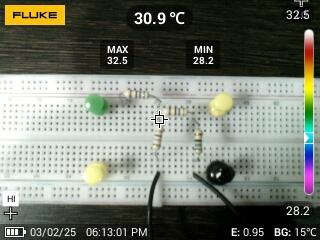resistor: (150, 123, 164, 154), (123, 88, 152, 102), (161, 106, 191, 118), (192, 126, 204, 156)
